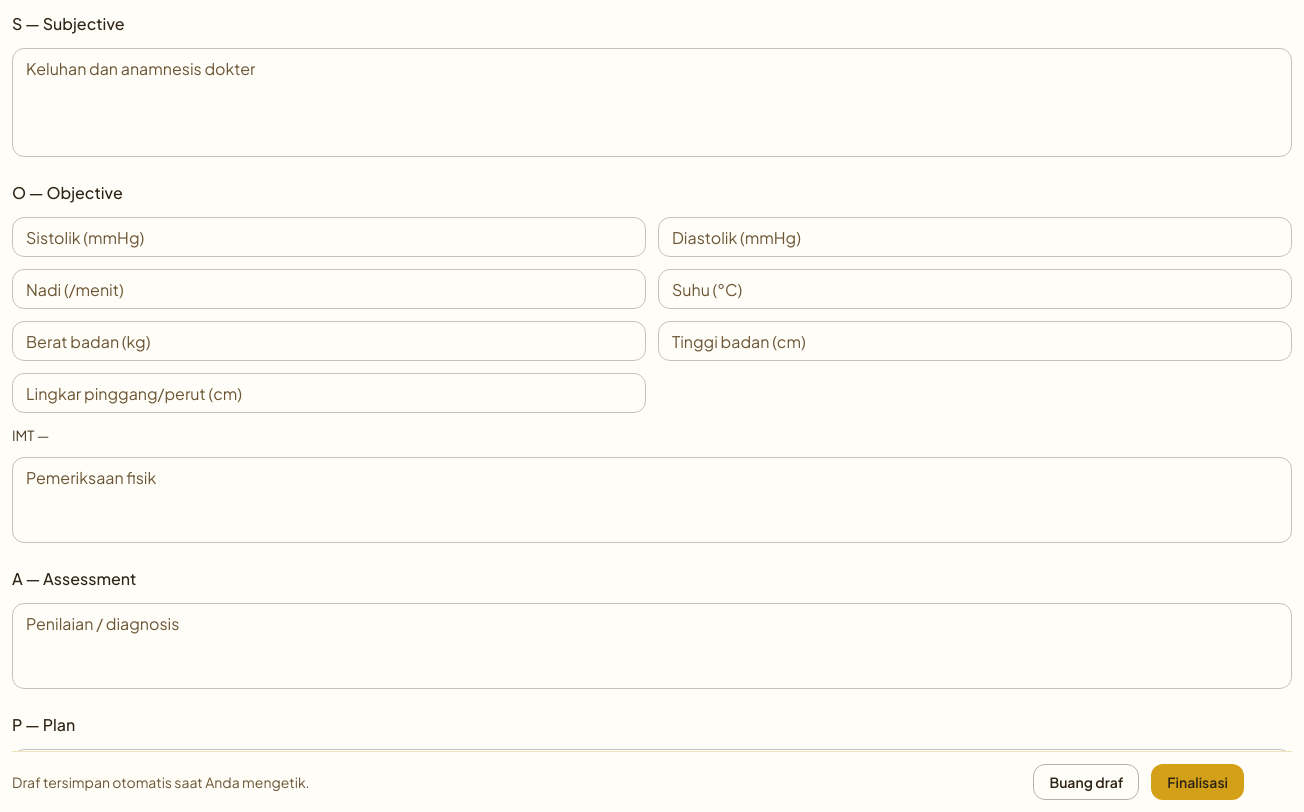
EncounterForm › angka yang tidak sah tidak dikirim, dan pesannya tampil
The image size is (1304, 812).
In the field labelled "Sistolik (mmHg)": coordinates (329, 237) [12,217,646,257], type "12"
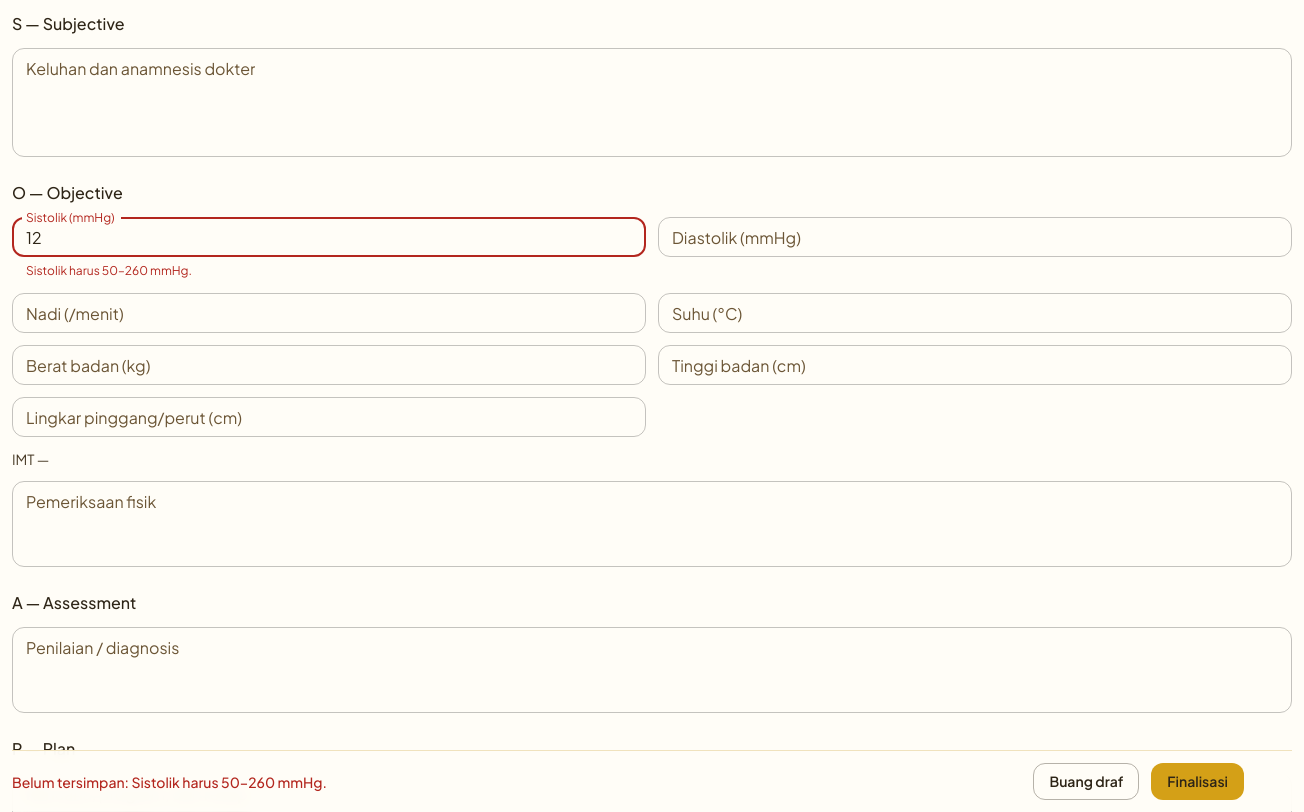
Expected: the message reads "Belum tersimpan: Sistolik harus 50–260 mmHg.", [12,773,327,791]
